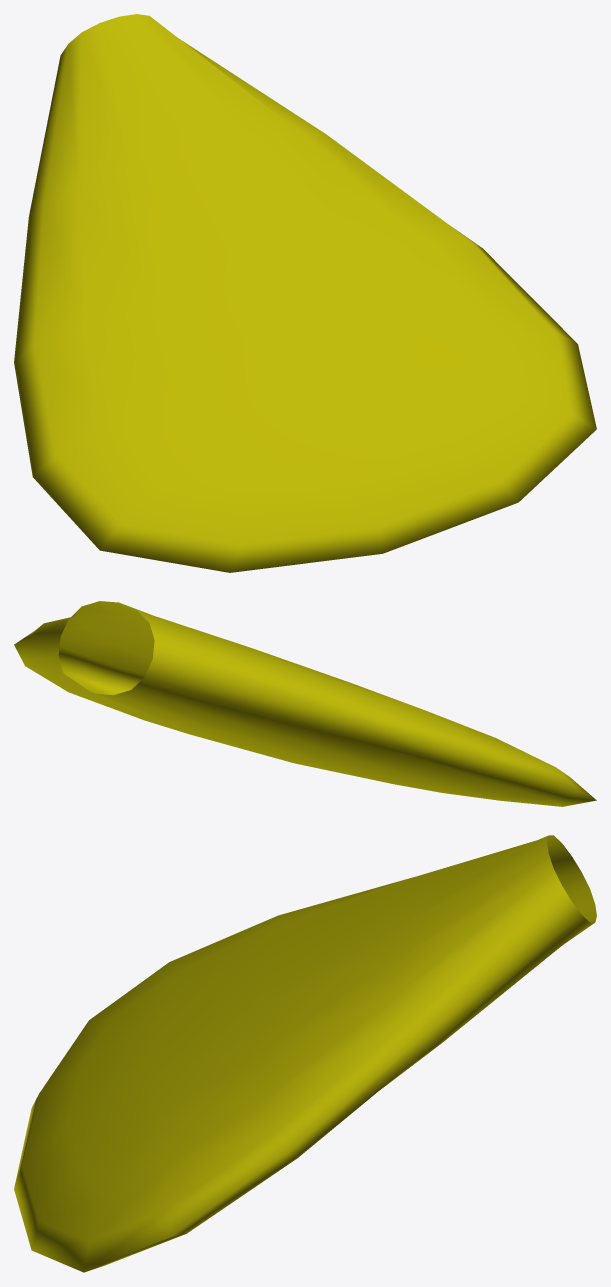
Rendered from fins_fish_yellow.glb.
3 renders of one model, top to bottom at view 1: azimuth 30°, elevation 25°; view 2: azimuth 150°, elevation 25°; view 3: azimuth 270°, elevation 25°, orthographic.
Visible parts, largest first — view 1: polySurface2.001; view 2: polySurface2.001; view 3: polySurface2.001.
Part boxes in pixels (<box>): polySurface2.001: <box>14,14,596,572</box>; polySurface2.001: <box>14,601,596,806</box>; polySurface2.001: <box>14,835,596,1272</box>.
Bounding box in the file's own units: 0.0833 × 0.0508 × 0.0765.
